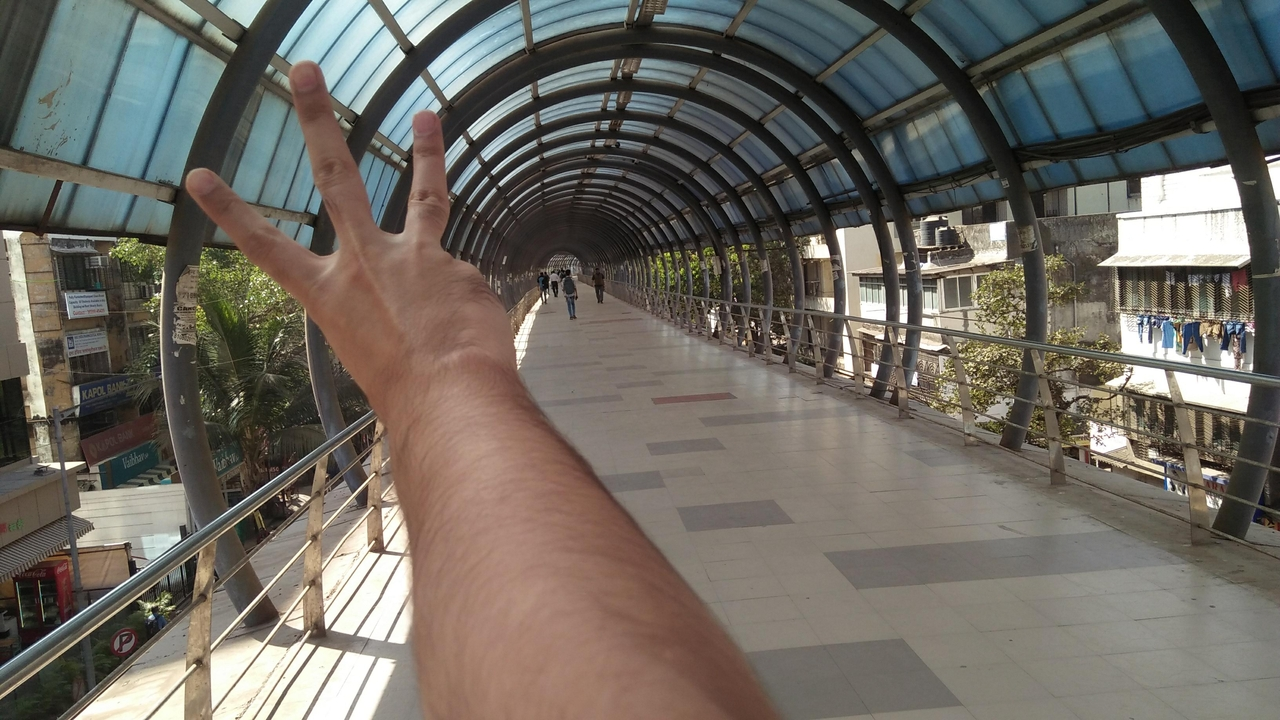fingertip: (170, 158, 232, 212), (274, 50, 326, 102), (396, 98, 442, 140)
